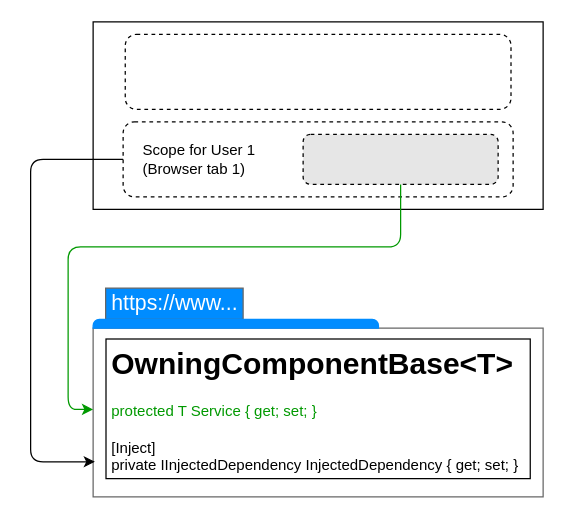
Image size: 565x519. Some labels were removed from this diagram. Here are the shapes that lost their labels. From the top down, the box of each, then its label:
(124, 33, 511, 109): Shared instances in Singleton scope
(302, 133, 498, 184): Scope for component instance
